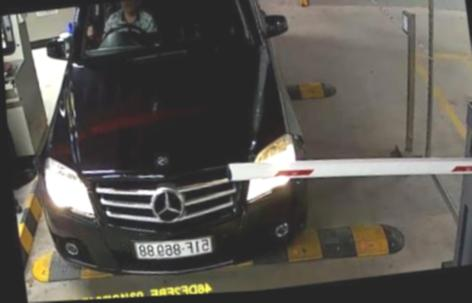License_Plate: (132, 232, 218, 268)
